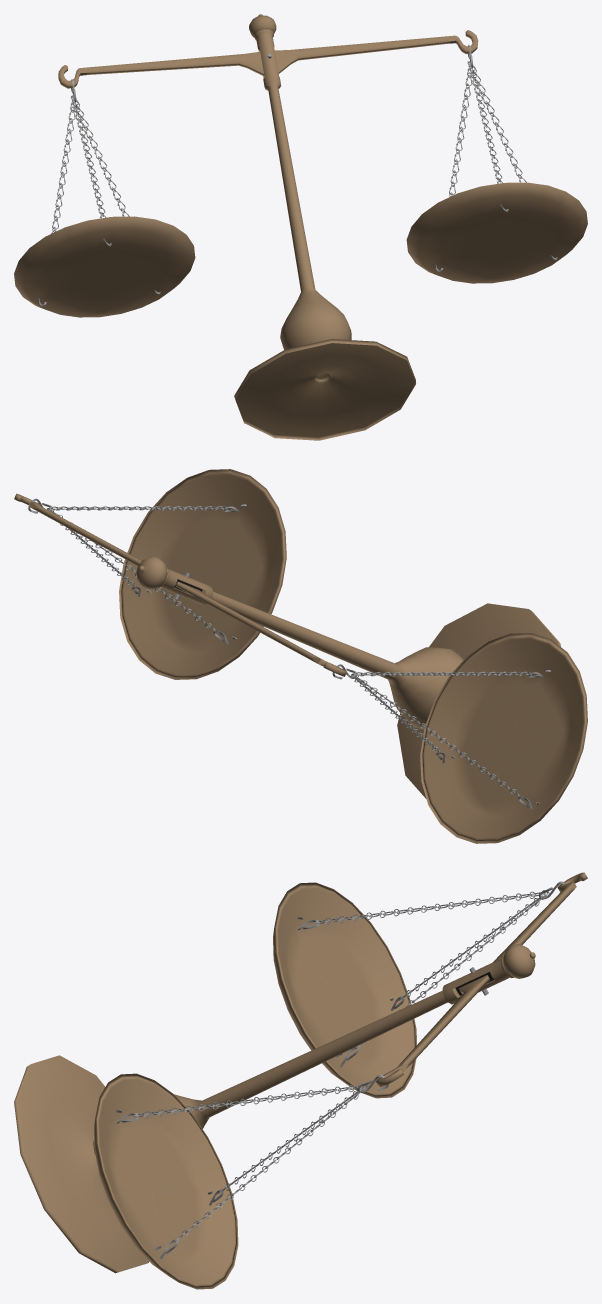
The model's file is scales3.glb.
The picture shows the model from 3 angles, top to bottom: view 1: azimuth 30°, elevation 25°; view 2: azimuth 150°, elevation 25°; view 3: azimuth 270°, elevation 25°; orthographic projection. The views are drawn at different scales.
Parts seen in each view (by area): view 1: g.215, g.214, g.213, g.216; view 2: g.213, g.214, g.215, g.216; view 3: g.215, g.214, g.213, g.216.
Boxes of the visible parts, box(x1,y1,x2,y2) form: g.215: box(234, 14, 415, 440); g.214: box(406, 182, 587, 283); g.213: box(14, 216, 195, 317); g.216: box(58, 30, 478, 88); g.213: box(420, 633, 587, 843); g.214: box(119, 469, 286, 679); g.215: box(136, 556, 560, 798); g.216: box(14, 493, 346, 676); g.215: box(14, 944, 535, 1273); g.214: box(94, 1073, 238, 1289); g.213: box(273, 882, 416, 1098); g.216: box(376, 872, 587, 1086).
Size of the model in its own units: 1.88 by 1.12 by 1.55.
Materials: 2 (2 with a texture image).
